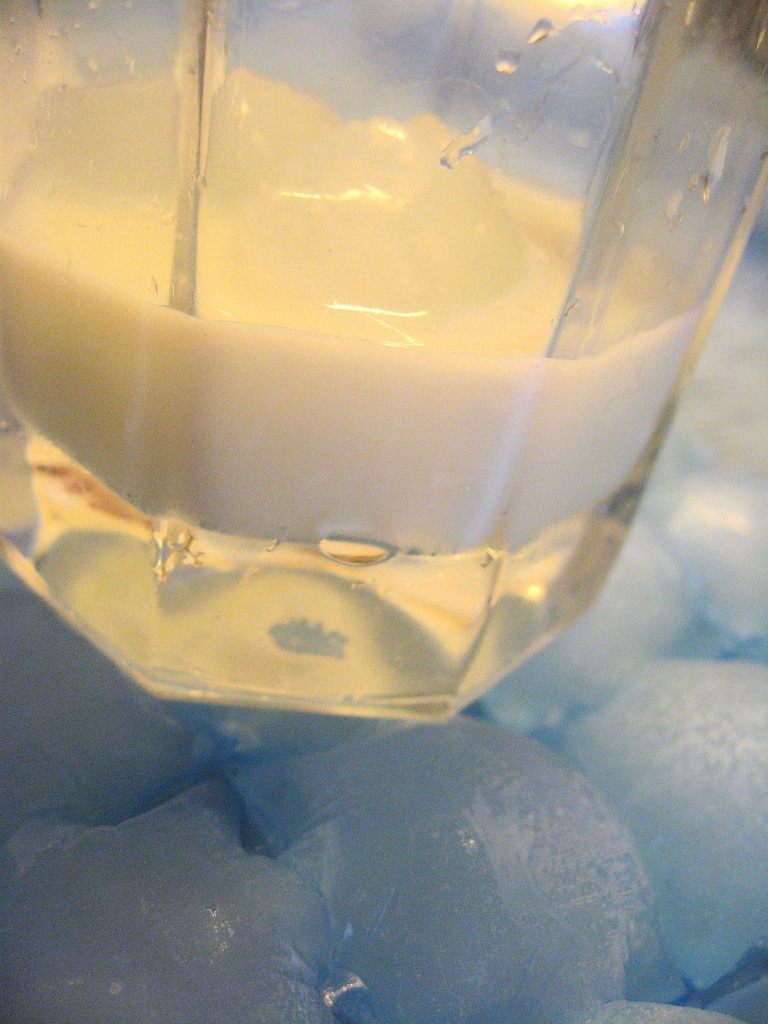glass of milk: (16, 108, 628, 679)
glass of water: (22, 89, 572, 698)
